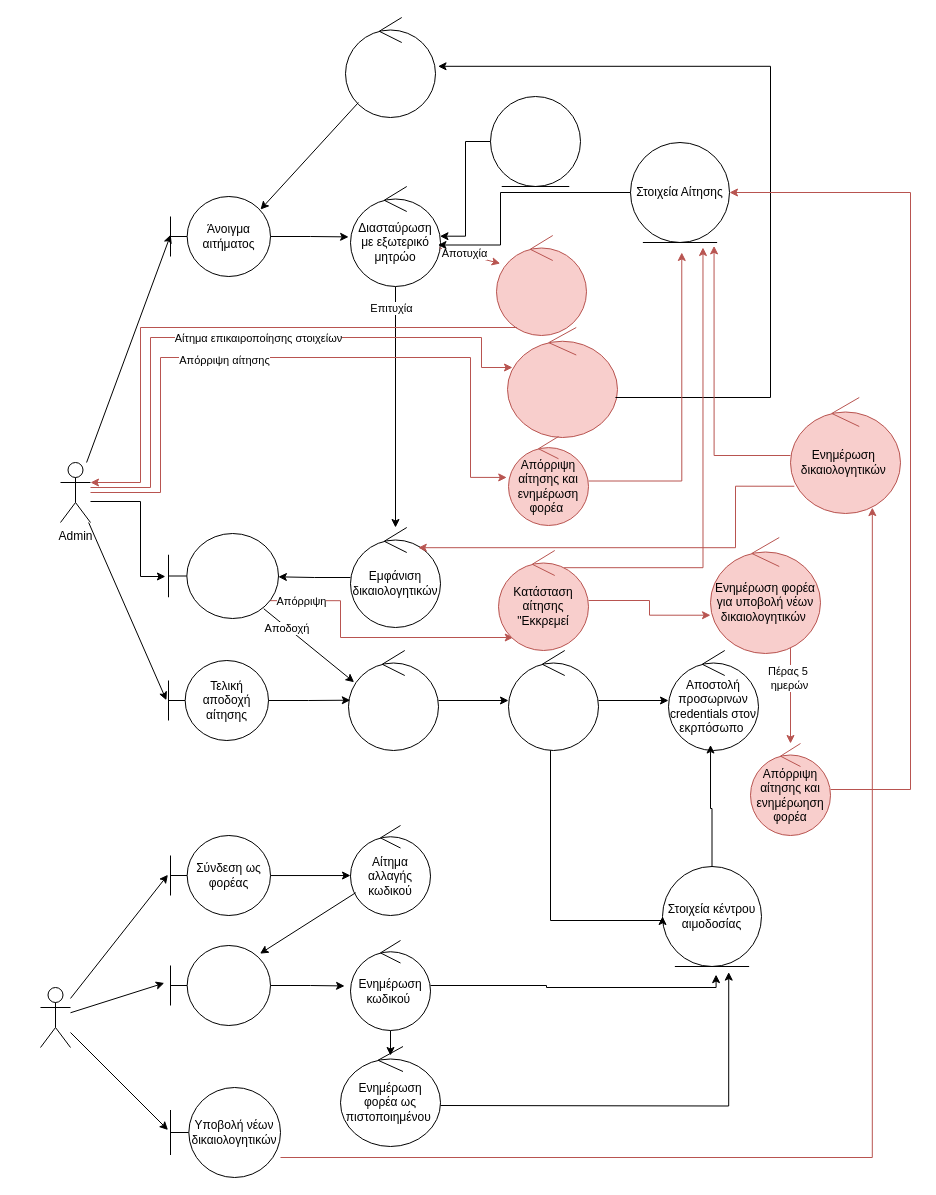
Some shapes in this 936 by 1195 pixel diagram are drawn without their labels. Here are the shapes that lost their labels. From the top down, the box of each, then its label:
(344, 16, 436, 118): Εμφάνιση αιτήματος πιστοποιησης
(490, 96, 580, 186): Εξωτερικό Μητρώο νοσοκομείων/δομών
(496, 234, 586, 336): Ενημέρωση αποτυχίας διασταύρωσης
(506, 326, 618, 438): Αίτημα για επικαιροποιημένα στοιχεία
(168, 532, 278, 618): Αποδοχή δικαιολογητικών
(348, 650, 438, 750): Εμφάνιση τελικής αποδοχή
(508, 650, 598, 750): Δημιουργία λογαριασμού φορέα
(170, 944, 270, 1026): Ειαγωγή νέου κωδικού
(40, 986, 70, 1048): Εκπρόσωπος φορέα
